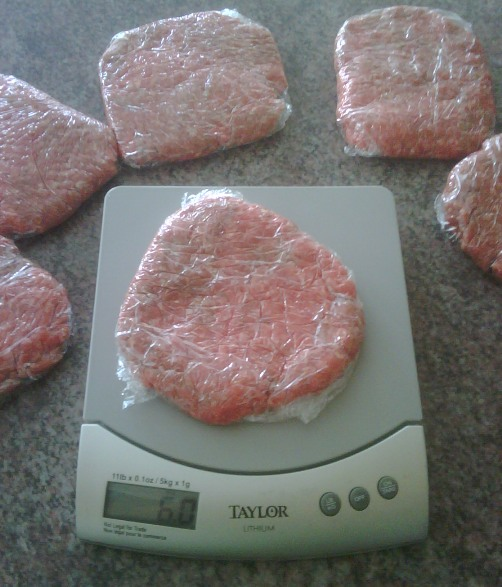ground_beef: (118, 193, 368, 415), (96, 17, 305, 164)
